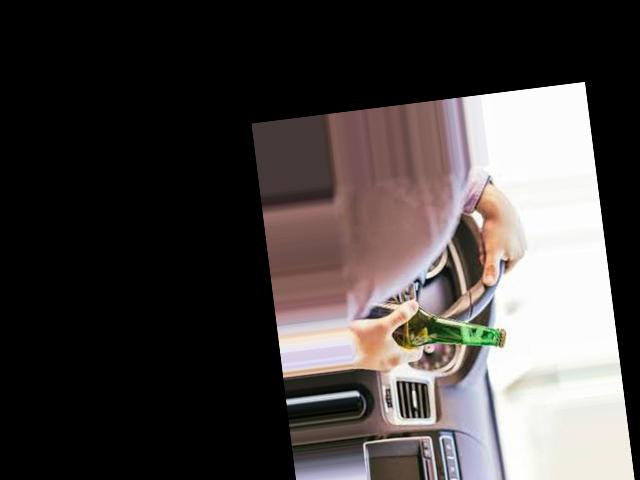beer: (350, 283, 508, 366)
